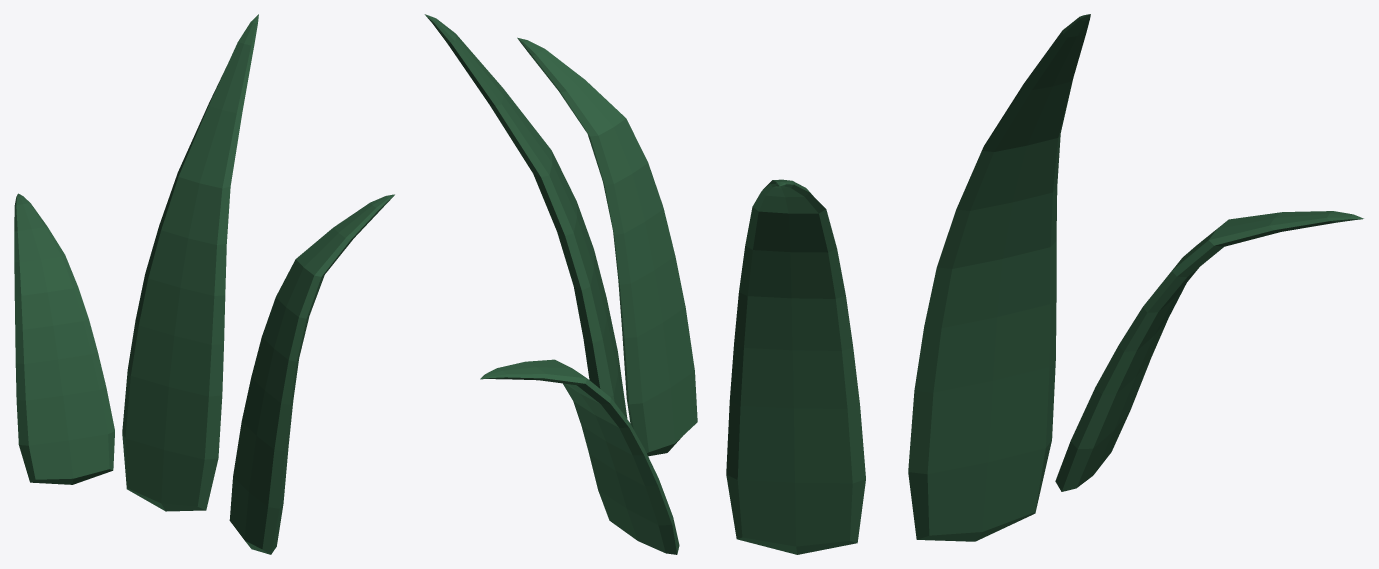
Rendered from hoja1.fbx.
3 renders of one model, left to right at view 1: azimuth 30°, elevation 25°; view 2: azimuth 150°, elevation 25°; view 3: azimuth 270°, elevation 25°, orthographic. The views are drawn at different scales.
Parts seen in each view (by area): view 1: TresPastos.001; view 2: TresPastos.001; view 3: TresPastos.001.
Part boxes in pixels (box(x1,y1,x2,y2)): TresPastos.001: box(14, 14, 394, 554); TresPastos.001: box(424, 14, 697, 554); TresPastos.001: box(726, 14, 1363, 554).
Bounding box in the file's own units: 13.54 × 21.95 × 20.46.
Materials: 1 (1 with a texture image).
